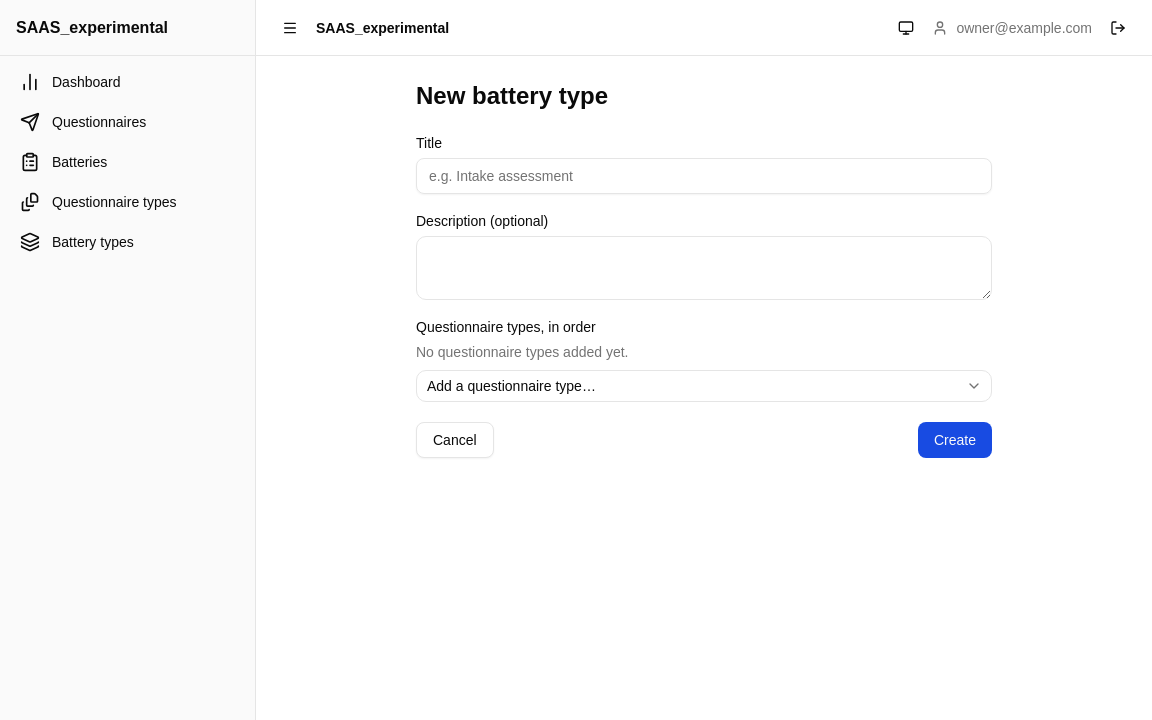
Test: /battery-types/new › requires at least one questionnaire type
The width and height of the screenshot is (1152, 720).
In the field labelled "Title": {"x": 704, "y": 176} [416,158,992,194], type "Intake"
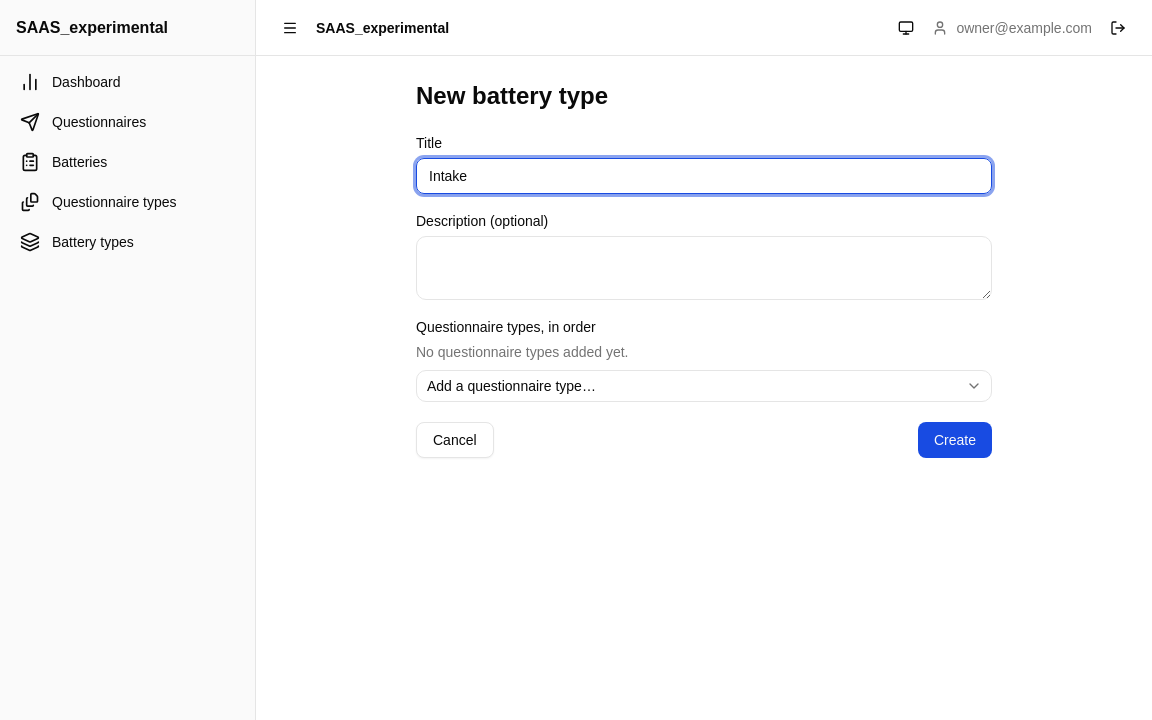
Click the button "Create": {"x": 955, "y": 440} [918,422,992,458]
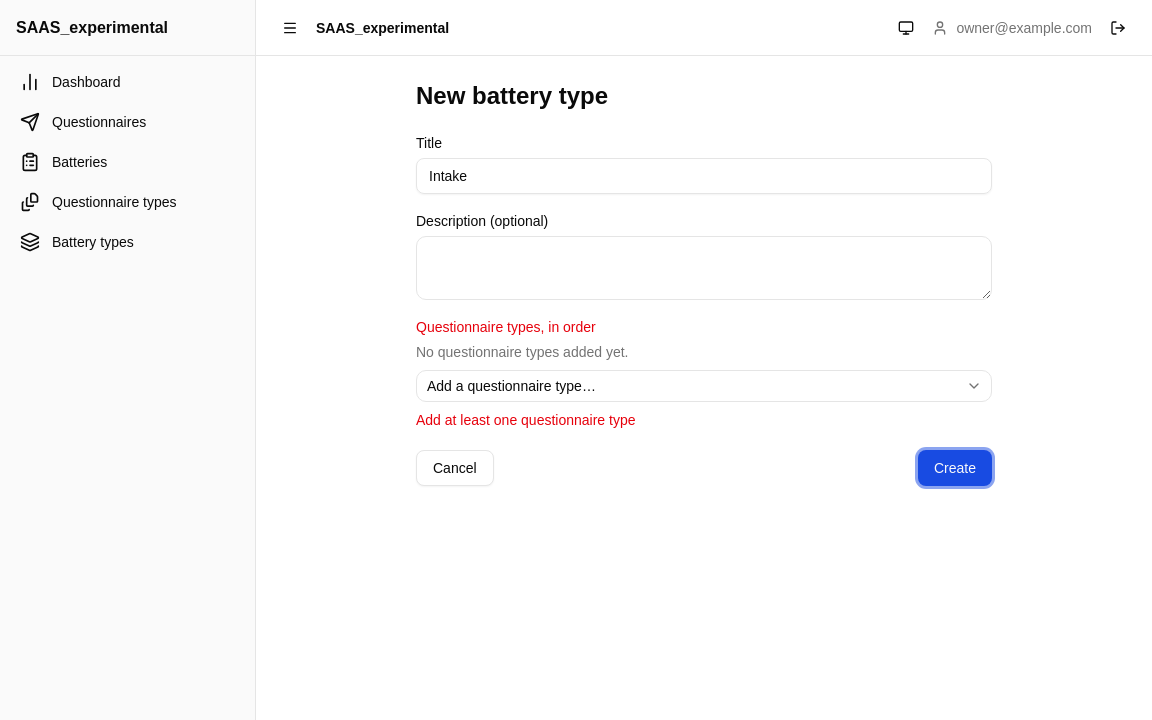
Check: the text "Add at least one questionnaire type" is shown, box [416,412,636,428]
